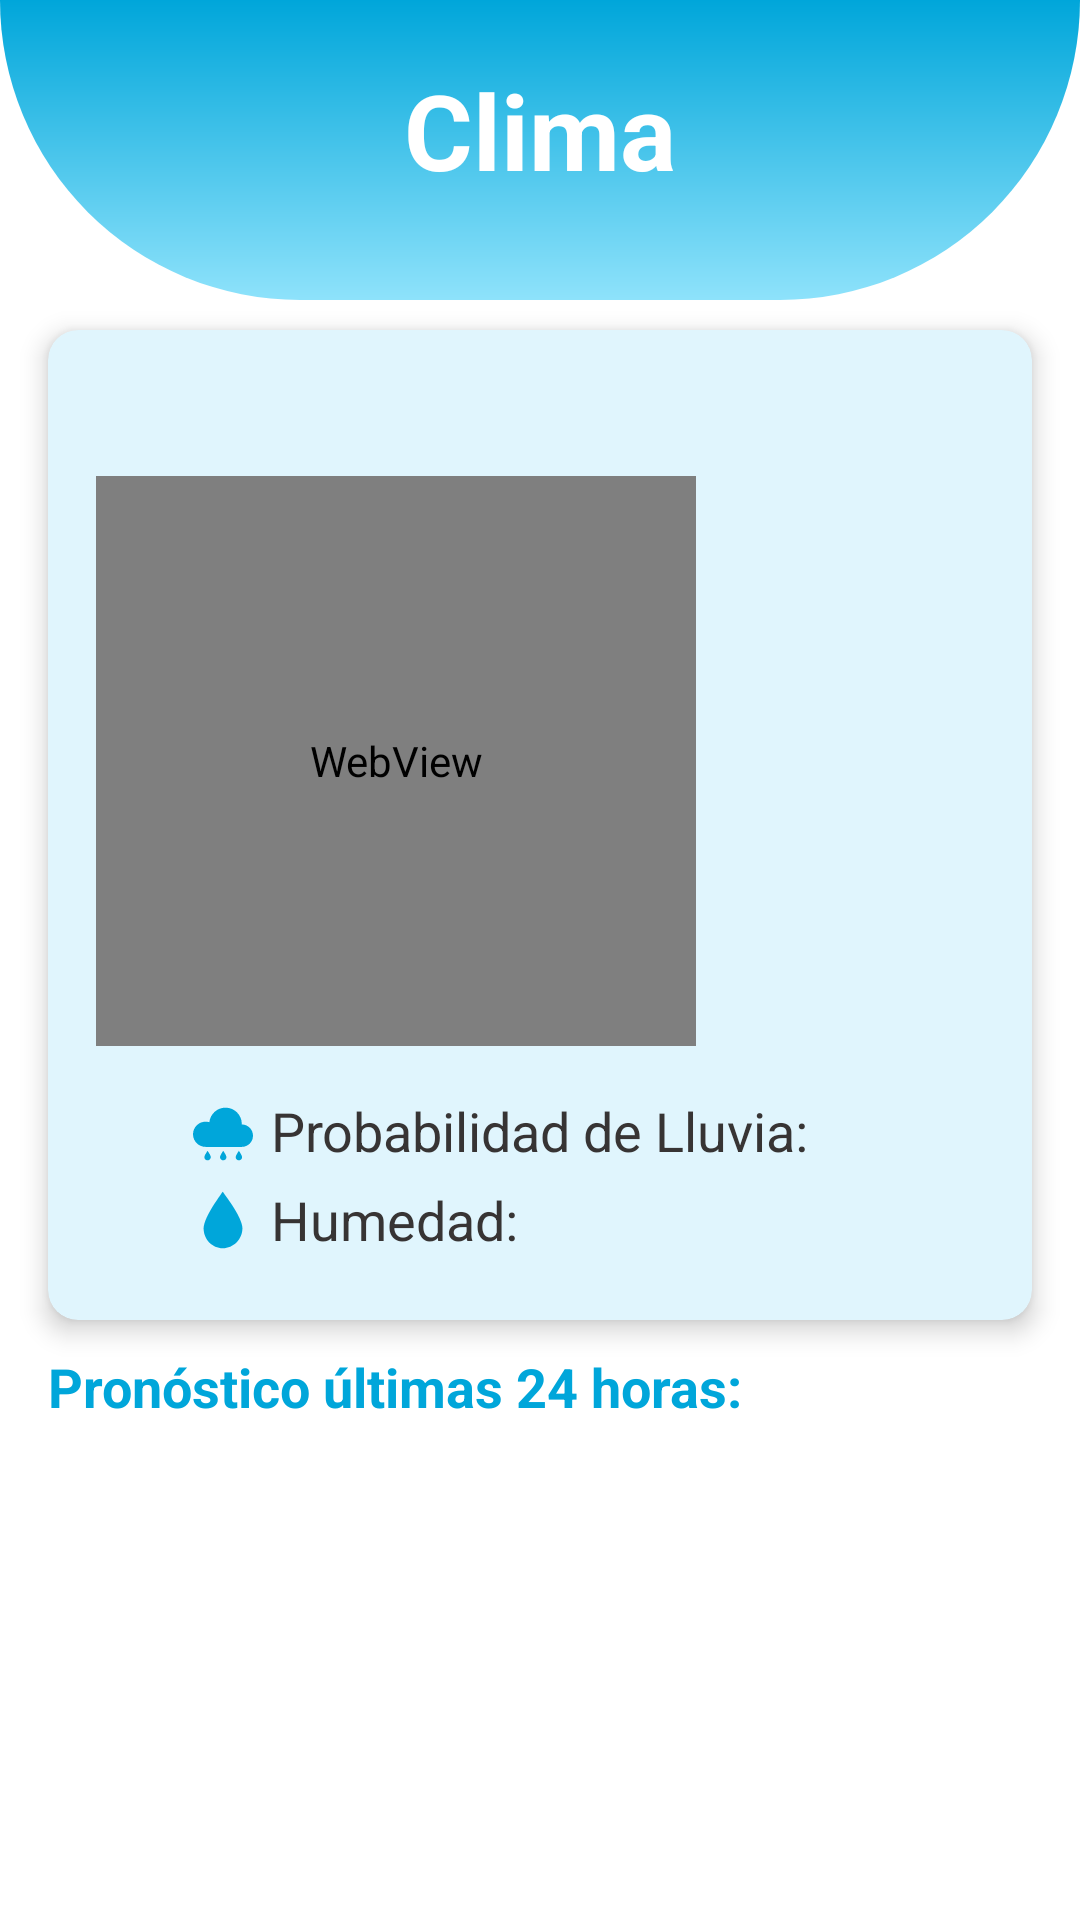

Screen size 1080w x 1920h. Icon name, then its center in pixels as (x=x, y=y):
drop: (x=223, y=1220)
weather: (x=223, y=1134)
